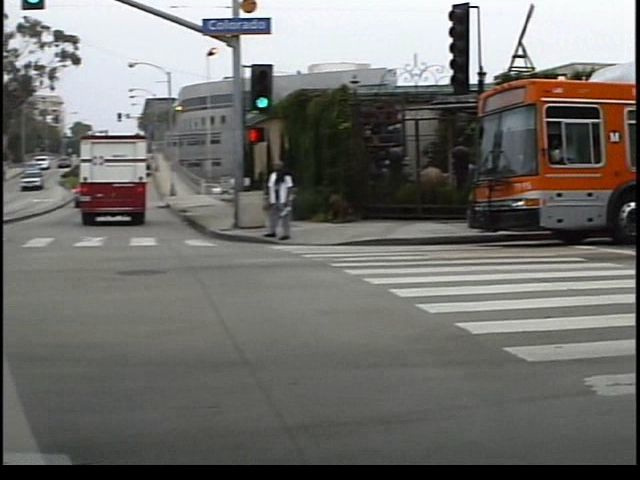person: (270, 156, 303, 243)
